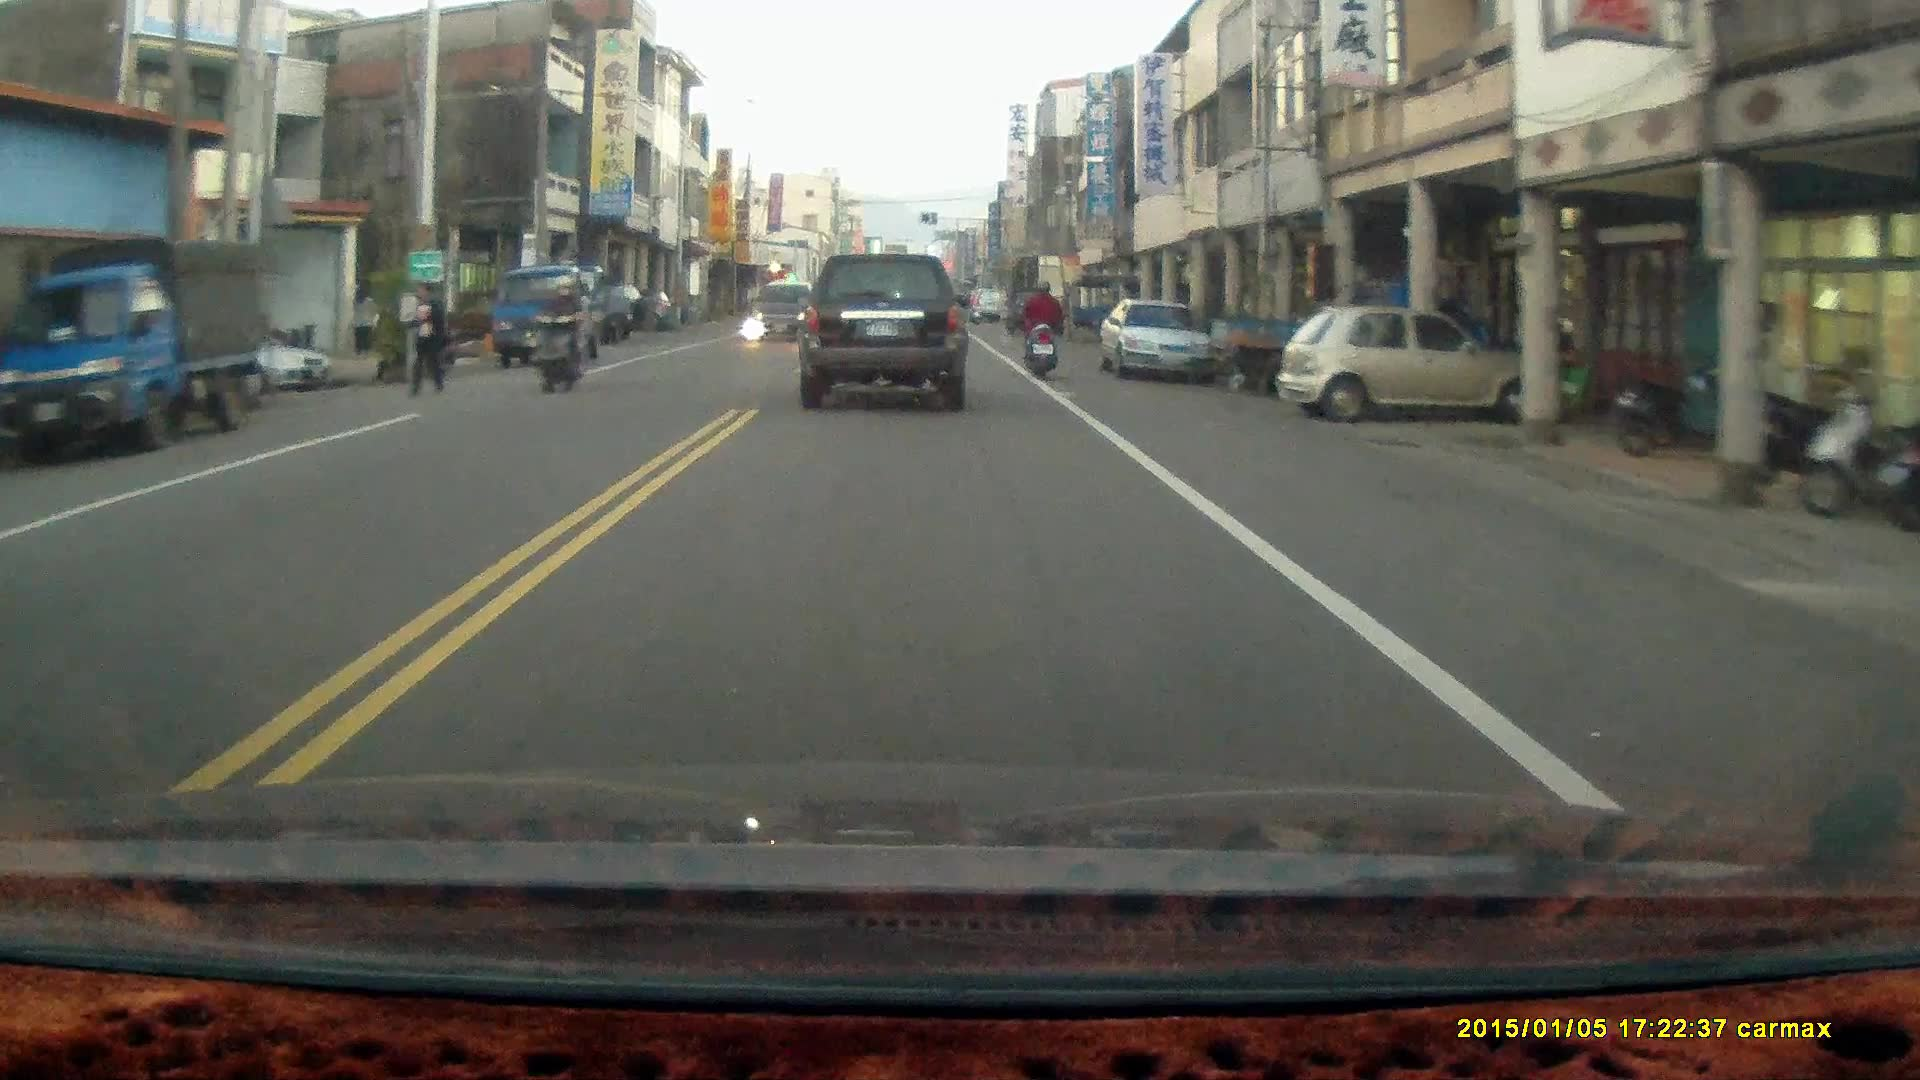pedestrian: (401, 274, 448, 400)
rider: (533, 279, 588, 395), (1021, 273, 1061, 373)
vehicle: (1, 236, 275, 461), (1279, 304, 1548, 420), (795, 250, 972, 413), (494, 265, 633, 366), (190, 317, 331, 395), (1101, 300, 1218, 381), (751, 281, 816, 343)
